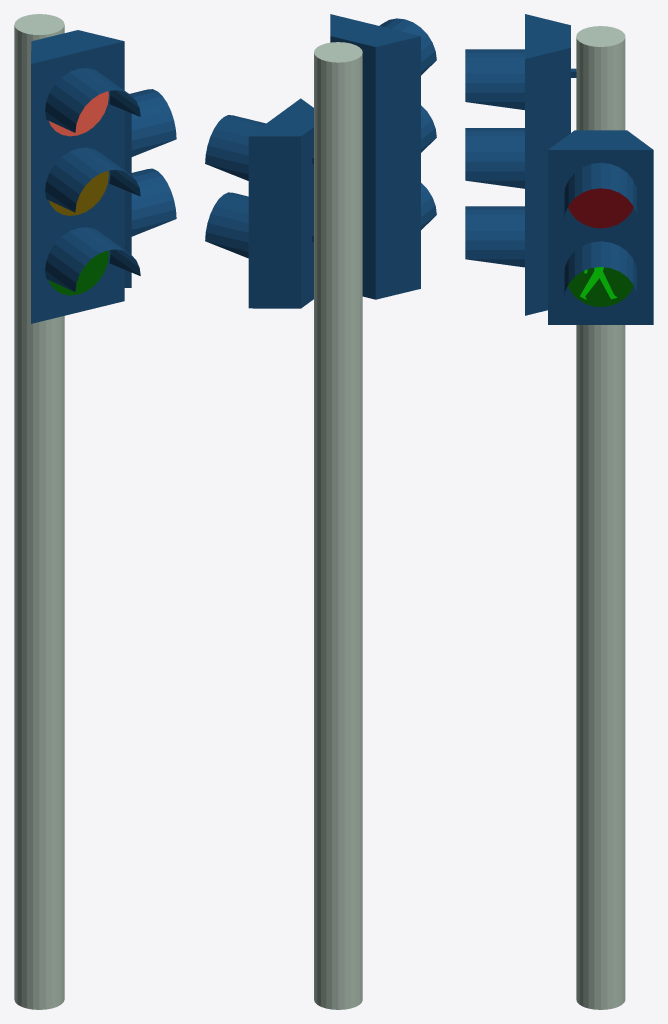
Rendered from traffic_light_ped.glb.
The picture shows the model from 3 angles, left to right: view 1: azimuth 30°, elevation 25°; view 2: azimuth 150°, elevation 25°; view 3: azimuth 270°, elevation 25°; orthographic projection. The views are drawn at different scales.
Bounding box in the file's own units: 53.2 × 300 × 53.2.
